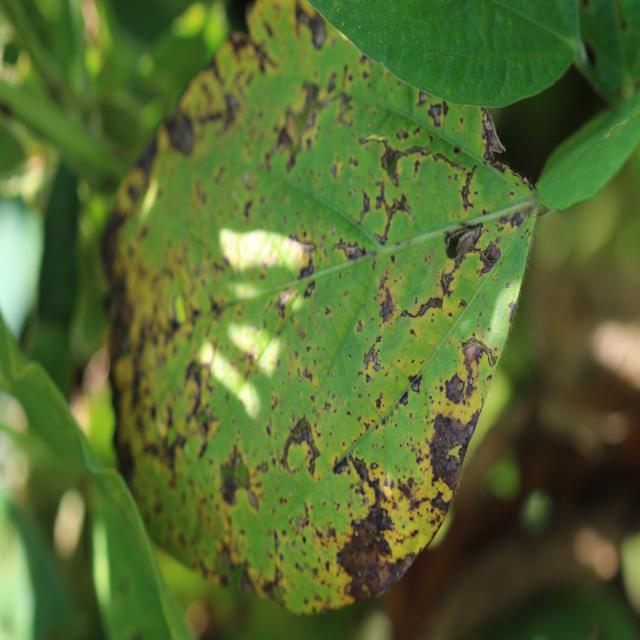Bacterial_Blight: (223, 297, 333, 462), (408, 352, 497, 511), (400, 215, 499, 327), (151, 343, 224, 487), (337, 500, 408, 597), (235, 172, 316, 247), (176, 51, 246, 134), (415, 148, 479, 205), (267, 101, 311, 169), (362, 271, 407, 335), (100, 196, 135, 277), (370, 182, 414, 243), (413, 89, 452, 134), (295, 4, 328, 51), (132, 131, 162, 180), (226, 341, 260, 384), (377, 140, 407, 183), (331, 89, 356, 127), (443, 372, 471, 405), (237, 564, 257, 595), (357, 188, 372, 223), (505, 209, 529, 230), (192, 179, 208, 207), (208, 295, 223, 318), (242, 168, 258, 189), (303, 280, 316, 299), (243, 198, 254, 220), (327, 72, 338, 93), (522, 175, 535, 191), (395, 128, 409, 141), (330, 163, 339, 179), (348, 155, 359, 167), (383, 476, 394, 488), (266, 421, 273, 436), (324, 305, 332, 316), (298, 329, 306, 340), (356, 320, 363, 332), (348, 187, 356, 196)
Soybean: (89, 0, 551, 619)
